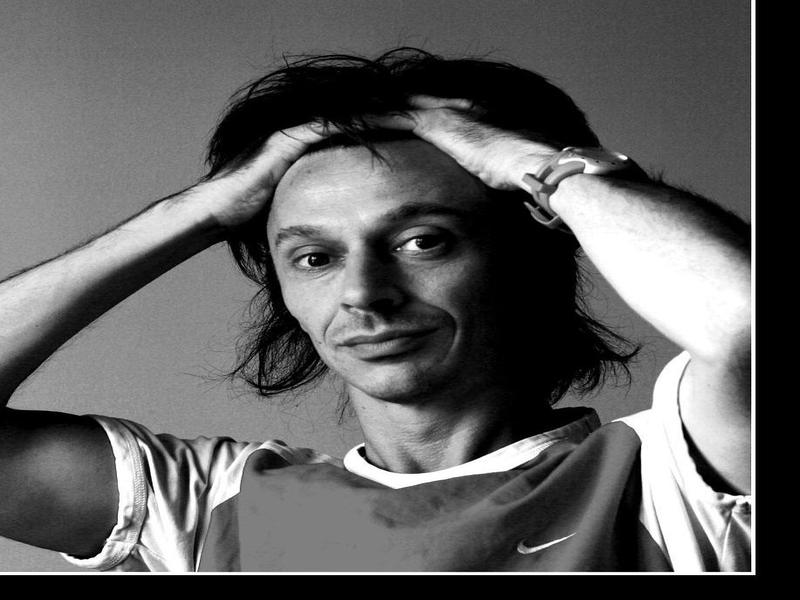person: (9, 50, 746, 570)
